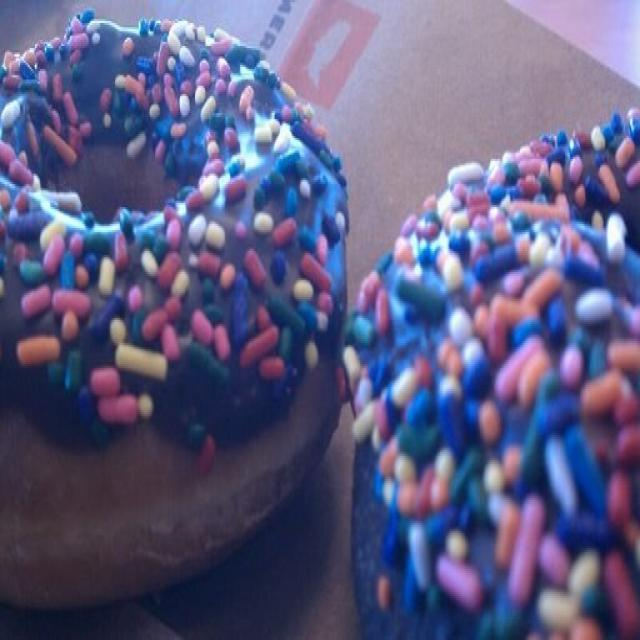Donuts: (1, 8, 640, 638)
